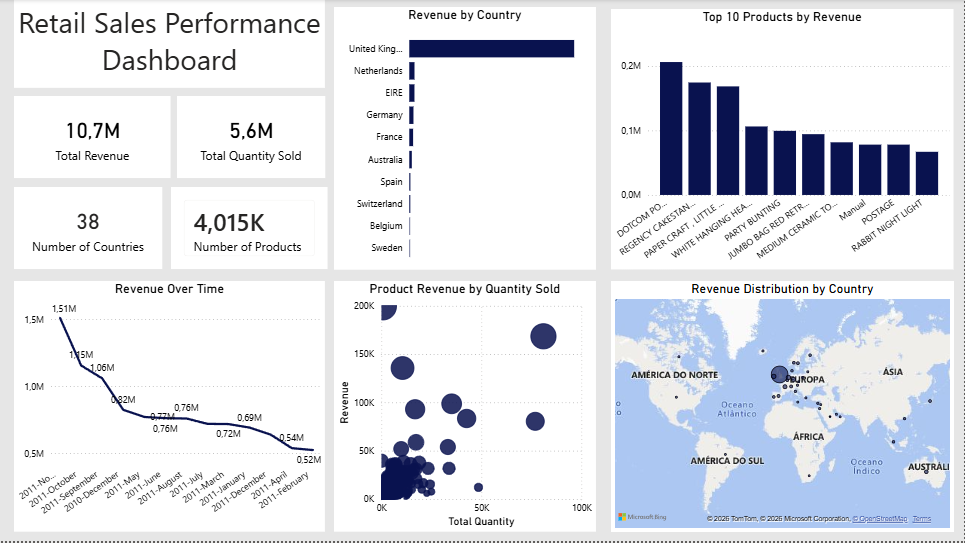

The dashboard page shown, as its layout file describes it:
{"tool":"powerbi","page":{"name":"Dashboard","canvas":[1280,720],"ordinal":0},"visuals":[{"type":"card","fields":{"Values":["Sum(fact_sales.revenue)"]},"box":[18.5,129.3,208.3,109.2],"z":0},{"type":"lineChart","title":"Revenue Over Time","fields":{"Category":["fact_sales.Year-Month"],"Y":["Sum(fact_sales.revenue)"]},"box":[18.5,374.6,413.2,332.6],"z":1000},{"type":"barChart","title":"Revenue by Country","fields":{"Category":["sales.Country"],"Y":["Sum(sales.revenue)"]},"box":[443.5,10.1,347.7,349.4],"z":2000},{"type":"clusteredColumnChart","title":"Top 10 Products by Revenue","fields":{"Category":["top_products.product_name"],"Y":["Sum(top_products.revenue)"]},"box":[811.3,13.4,455.2,346],"z":3000},{"type":"scatterChart","title":"Product Revenue by Quantity Sold","fields":{"X":["retail_final.total_quantity"],"Y":["retail_final.revenue"],"Size":["Sum(retail_final.revenue)"]},"box":[443.5,374.6,347.7,332.6],"z":4000},{"type":"map","title":"Revenue Distribution by Country","fields":{"Category":["retail_final.country"],"Size":["Sum(retail_final.revenue)"]},"box":[811.3,374.6,455.2,332.6],"z":5000},{"type":"textbox","box":[18.5,0,413.2,117.6],"z":6000},{"type":"card","fields":{"Values":["Sum(retail_final.total_quantity)"]},"box":[235.2,129.3,196.5,109.2],"z":7000},{"type":"card","fields":{"Values":["Count(retail_final.country)"]},"box":[18.5,250.3,196.5,109.2],"z":8000},{"type":"cardVisual","fields":{"Data":["Count(retail_final.product)"]},"box":[226.8,250.3,208.3,109.2],"z":9000}]}

Visuals, with their boxes in screenshot pixels (x1, y1, x2, y2), scaled from the page's 1280x720 canvas onto the 965x543 screenshot:
card - Sum(fact_sales.revenue): region(14, 98, 171, 180)
"Revenue Over Time" lineChart: region(14, 283, 325, 533)
"Revenue by Country" barChart: region(334, 8, 596, 271)
"Top 10 Products by Revenue" clusteredColumnChart: region(612, 10, 955, 271)
"Product Revenue by Quantity Sold" scatterChart: region(334, 283, 596, 533)
"Revenue Distribution by Country" map: region(612, 283, 955, 533)
textbox: region(14, 0, 325, 89)
card - Sum(retail_final.total_quantity): region(177, 98, 325, 180)
card - Count(retail_final.country): region(14, 189, 162, 271)
cardVisual - Count(retail_final.product): region(171, 189, 328, 271)
